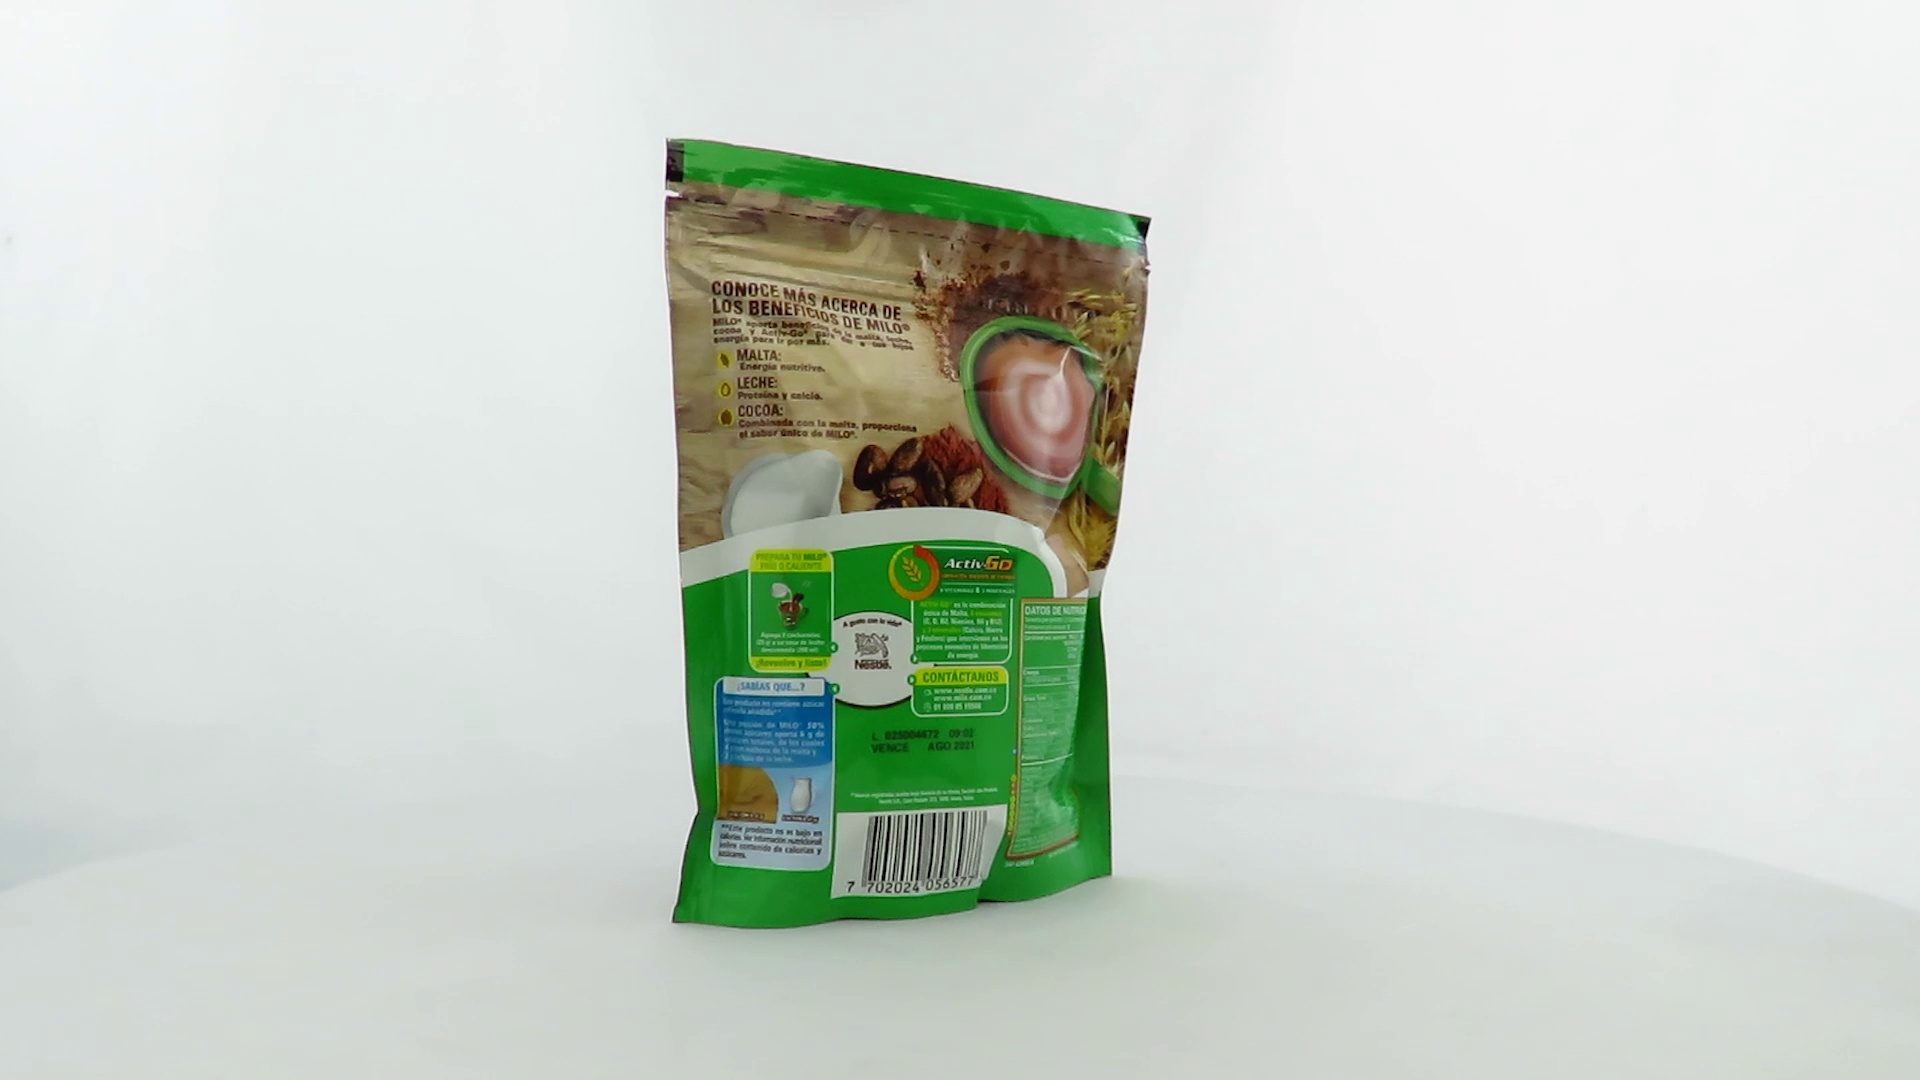COL0170205DYP20000: (659, 133, 1158, 936)
